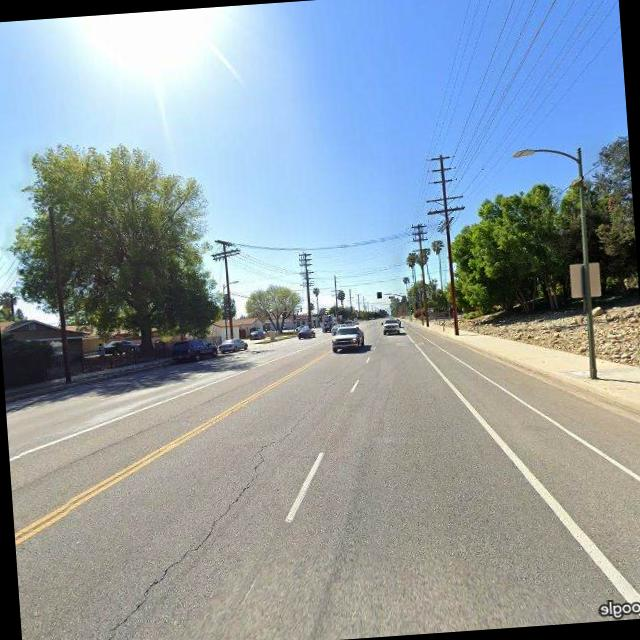pothole: (79, 375, 354, 640)
